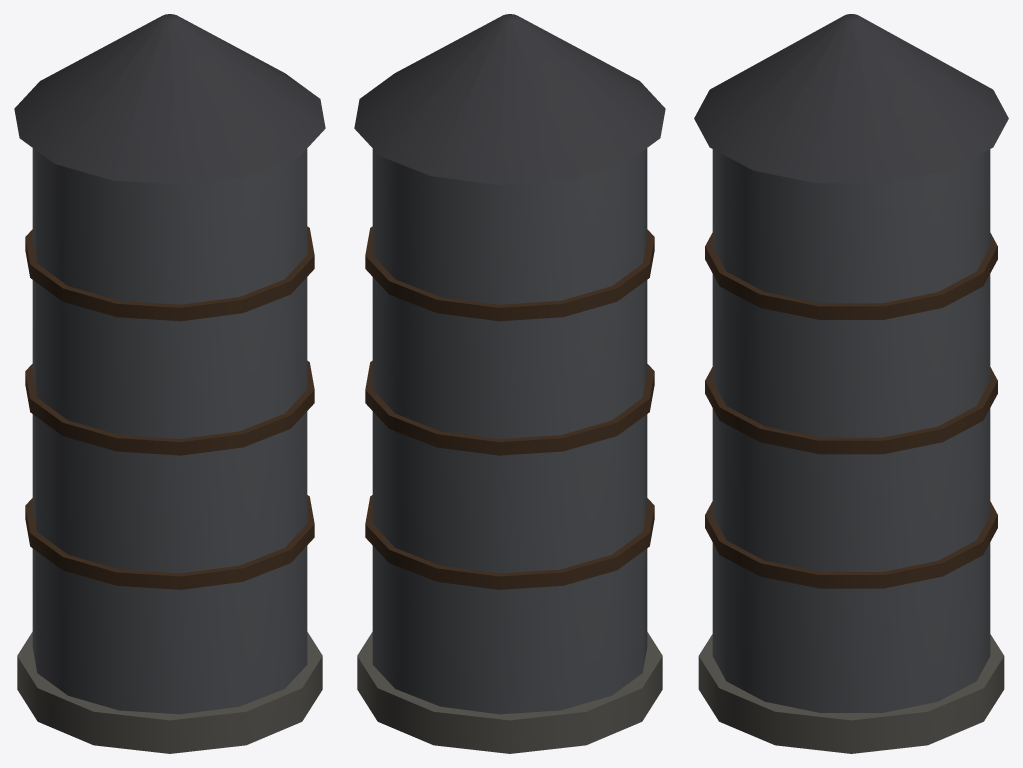
The model's file is ranch_silo.glb.
3 views of the same model, side by side, from view 1: azimuth 30°, elevation 25°; view 2: azimuth 150°, elevation 25°; view 3: azimuth 270°, elevation 25° (orthographic).
Visible parts, largest first — view 1: prop; view 2: prop; view 3: prop.
Part boxes in pixels (x1,y1,x2,y2): prop: (14,14,325,753); prop: (354,14,665,753); prop: (694,14,1008,753).
Size of the model in its own units: 3.31 by 8 by 3.4.
